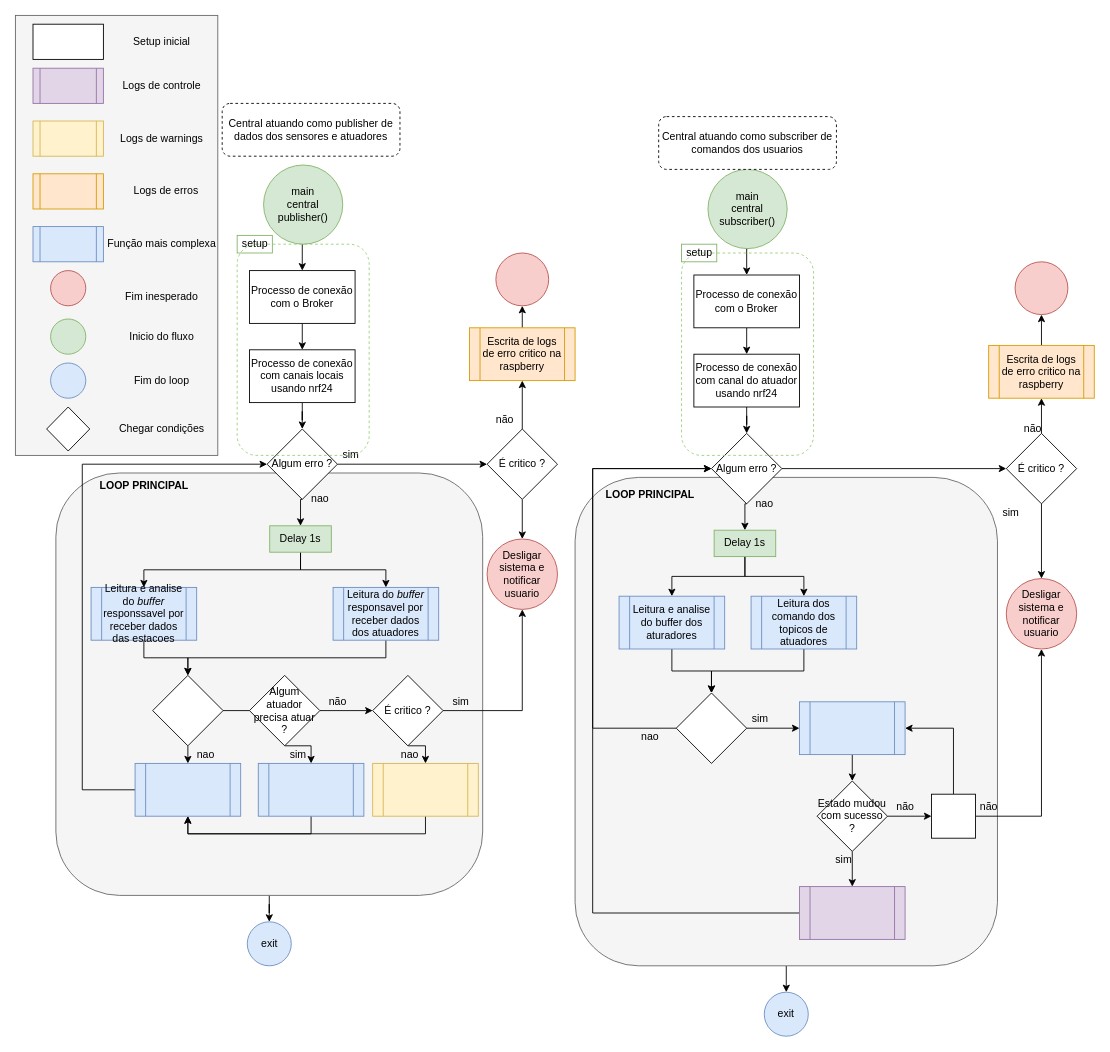
Some shapes in this 1110 by 1052 pixel diagram are drawn without their labels. Each missing label, with the centre of its shape:
"Algo fora do comum ?" goes at point 187,710.
"Algum estado tem que mudar ?" goes at point 711,727.
"Enviar comando para o atuador mudar" goes at point 852,728.
"Escrita de logs de mudança na raspberry" goes at point 852,912.
"Escrita de logs de warning na raspberry" goes at point 425,789.
"Publicar dados dos sensores nos topicos do broker" goes at point 187,789.
"Publicar no buffer de comunicacão do atuador" goes at point 310,789.
"retry 3x" goes at point 953,815.
